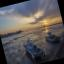fishing boat: (22, 34, 48, 63), (42, 27, 63, 45)
